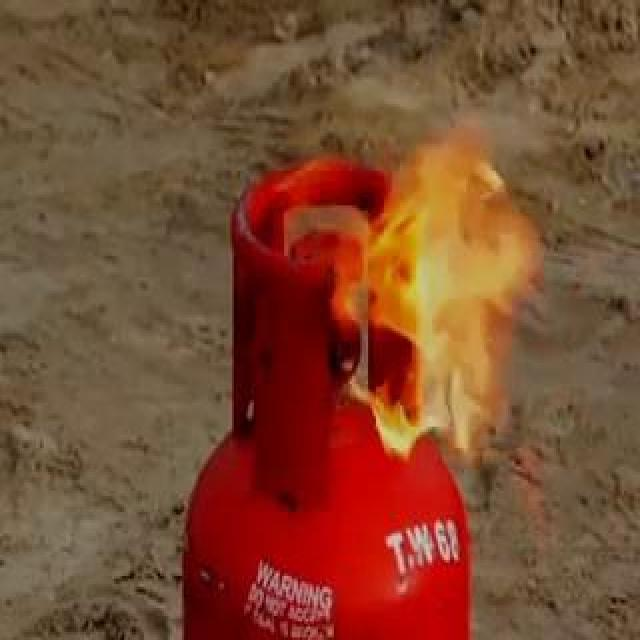Fire: (255, 110, 557, 478)
